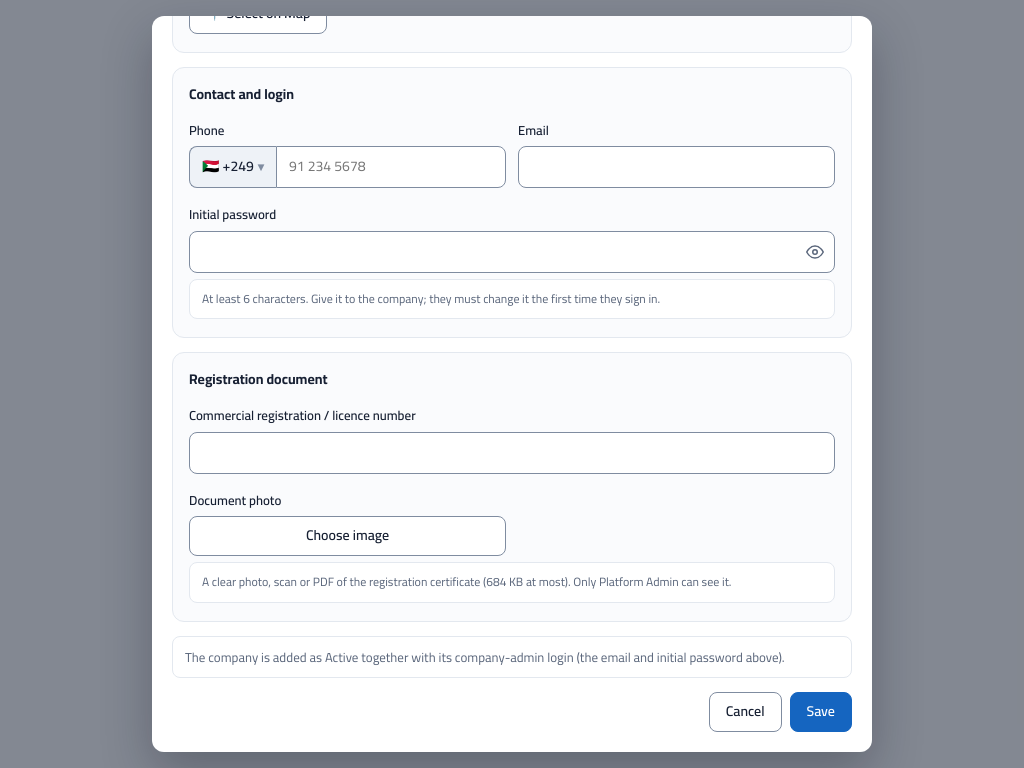
Test case: the add-company form › still refuses to save an incomplete company, and says what is missing
(page scrolled)
Click the button "Save": (821, 712) [790,692,852,732]
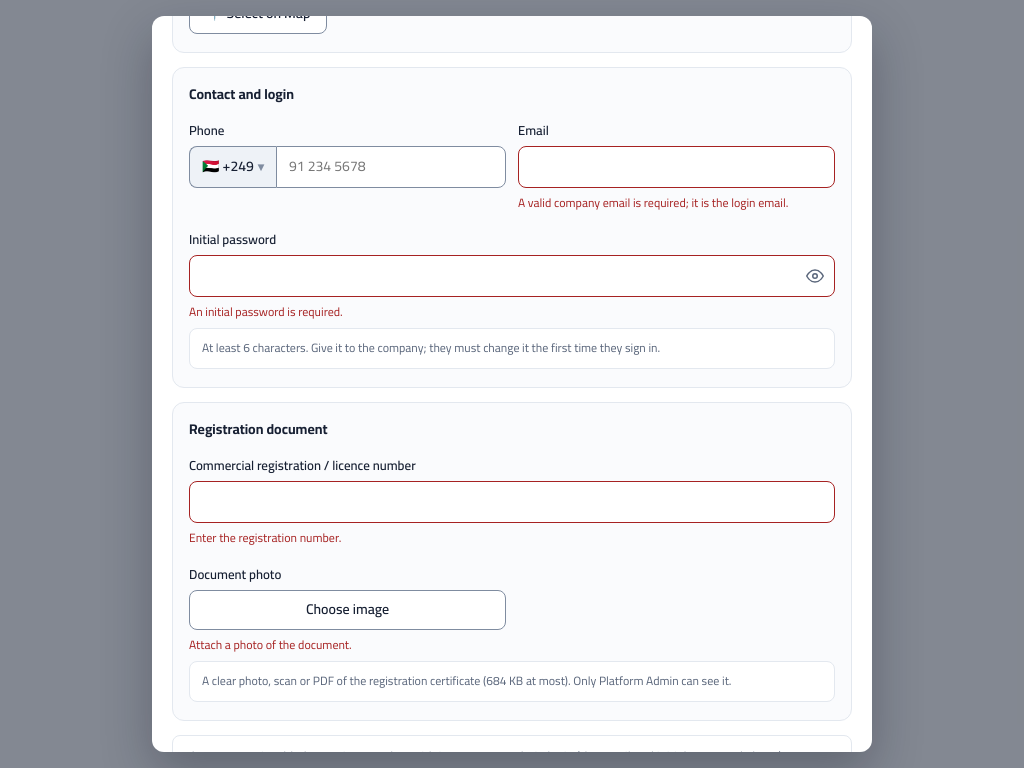
Expected: the text "An initial password is required." is shown, [189,300,343,323]
